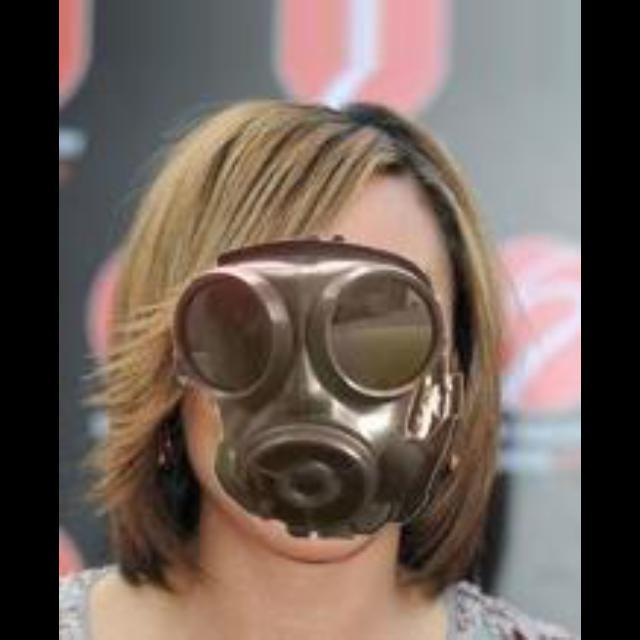suspicion: (137, 129, 483, 563)
